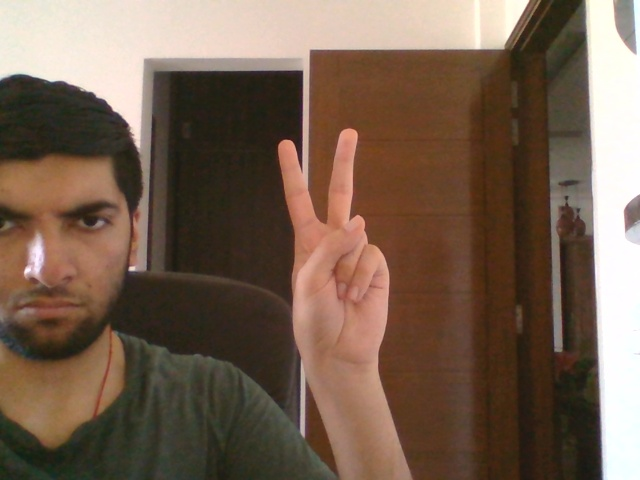LetterK: (276, 127, 390, 369)
